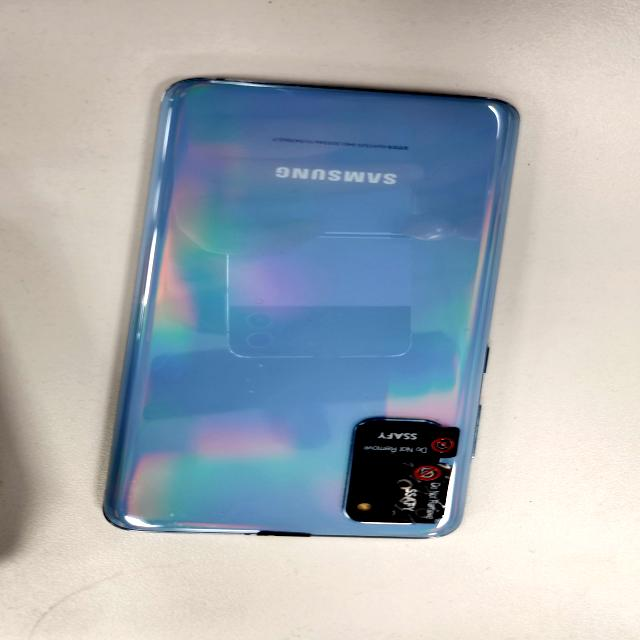phone: (108, 75, 520, 541)
removed_sticker: (390, 462, 450, 522)
sticker: (355, 428, 457, 458)
